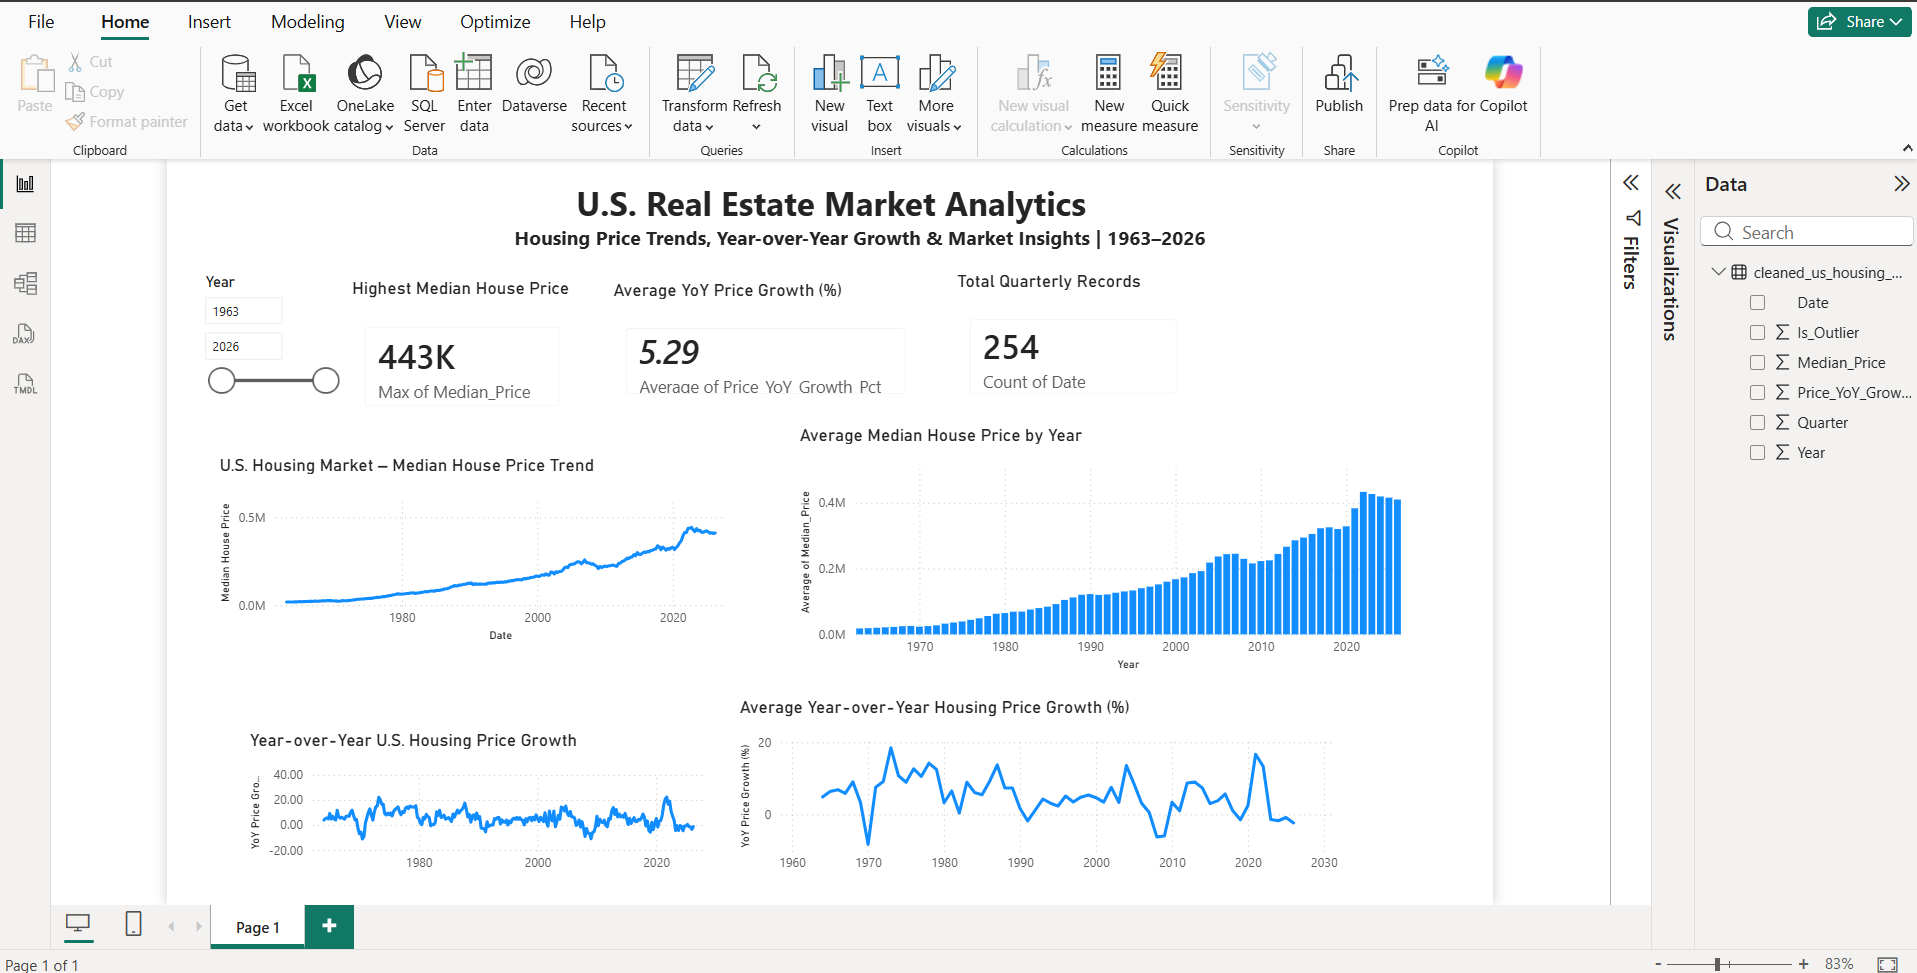

What the dashboard file says about the page in this screenshot:
{"tool":"powerbi","page":{"name":"Page 1","canvas":[1280,720],"ordinal":0},"visuals":[{"type":"lineChart","title":"U.S. Housing Market – Median House Price Trend","fields":{"Y":["Avg(cleaned_us_housing_market.Median_Price)"],"Category":["cleaned_us_housing_market.Date"]},"box":[45.7,284.3,501.4,185.7],"z":0},{"type":"cardVisual","title":"Highest Median House Price","fields":{"Data":["Max(cleaned_us_housing_market.Median_Price)"]},"box":[174.3,114.3,222.9,141.4],"z":1000},{"type":"cardVisual","title":"Average YoY Price Growth (%)","fields":{"Data":["Avg(cleaned_us_housing_market.Price_YoY_Growth_Pct)"]},"box":[425.7,115.7,304.3,128.6],"z":2000},{"type":"cardVisual","title":"Total Quarterly Records","fields":{"Data":["CountNonNull(cleaned_us_housing_market.Date)"]},"box":[757.1,107.1,235.7,137.1],"z":3000},{"type":"lineChart","title":"Year-over-Year U.S. Housing Price Growth","fields":{"Category":["cleaned_us_housing_market.Date"],"Y":["Avg(cleaned_us_housing_market.Price_YoY_Growth_Pct)"]},"box":[74.3,550,451.5,146.8],"z":3001},{"type":"clusteredColumnChart","title":"Average Median House Price by Year","fields":{"Category":["cleaned_us_housing_market.Year"],"Y":["Avg(cleaned_us_housing_market.Median_Price)"]},"box":[605.7,255.7,601.4,242.9],"z":3002},{"type":"lineChart","title":"Average Year-over-Year Housing Price Growth (%)","fields":{"Category":["cleaned_us_housing_market.Year"],"Y":["Avg(cleaned_us_housing_market.Price_YoY_Growth_Pct)"]},"box":[547.1,518.6,587.1,178.6],"z":3003},{"type":"textbox","box":[160,15.7,1057.1,95.7],"z":3004},{"type":"slicer","fields":{"Values":["cleaned_us_housing_market.Year"]},"box":[24,105,150,150],"z":3005}]}

Visuals, with their boxes on the page's 1280x720 design canvas (x1, y1, x2, y2). These are canvas units, not pixel positions in the 1917x973 screenshot, which may show the page scaled, cropped or inside an application window:
"U.S. Housing Market – Median House Price Trend" lineChart: detection(46, 284, 547, 470)
"Highest Median House Price" cardVisual: detection(174, 114, 397, 256)
"Average YoY Price Growth (%)" cardVisual: detection(426, 116, 730, 244)
"Total Quarterly Records" cardVisual: detection(757, 107, 993, 244)
"Year-over-Year U.S. Housing Price Growth" lineChart: detection(74, 550, 526, 697)
"Average Median House Price by Year" clusteredColumnChart: detection(606, 256, 1207, 499)
"Average Year-over-Year Housing Price Growth (%)" lineChart: detection(547, 519, 1134, 697)
textbox: detection(160, 16, 1217, 111)
slicer - cleaned_us_housing_market.Year: detection(24, 105, 174, 255)
